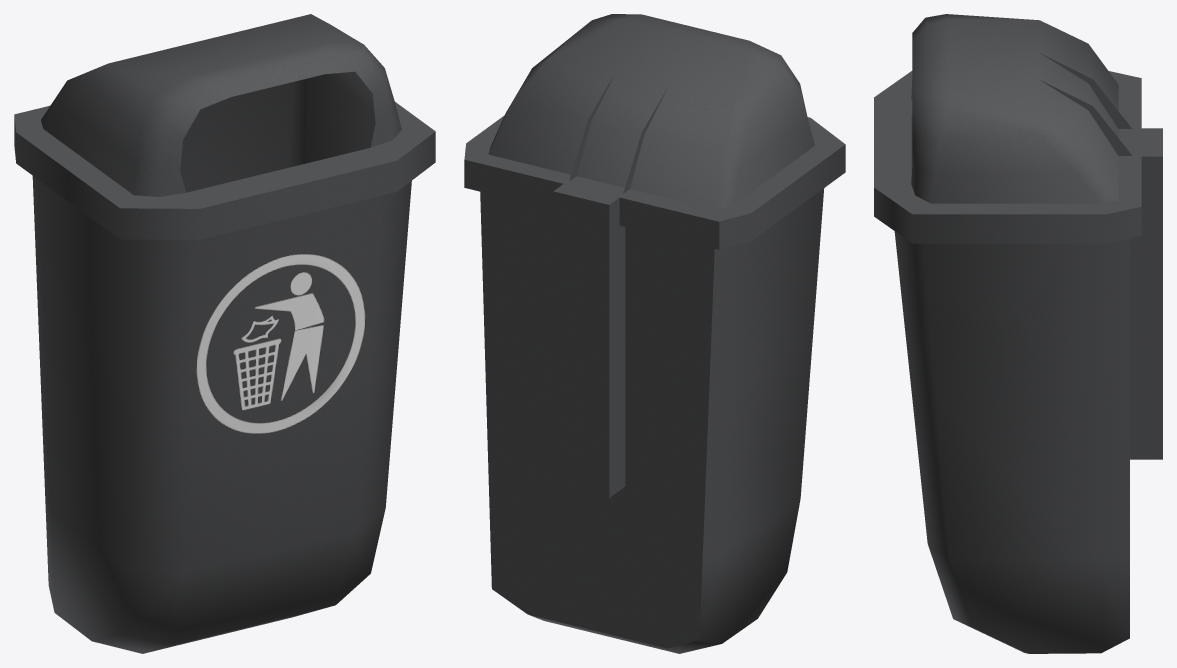
The model's file is wastebin.glb.
3 views of the same model, side by side, from view 1: azimuth 30°, elevation 25°; view 2: azimuth 150°, elevation 25°; view 3: azimuth 270°, elevation 25° (orthographic). The views are drawn at different scales.
Visible parts, largest first — view 1: WASTEBIN_TYPE23_L9_001; view 2: WASTEBIN_TYPE23_L9_001; view 3: WASTEBIN_TYPE23_L9_001.
Part boxes in pixels (bbox=[...]): WASTEBIN_TYPE23_L9_001: bbox=[14, 14, 435, 653]; WASTEBIN_TYPE23_L9_001: bbox=[464, 14, 845, 653]; WASTEBIN_TYPE23_L9_001: bbox=[874, 14, 1162, 653].
Size of the model in its own units: 0.4339 by 0.7965 by 0.368.
1 material, 1 textured.
